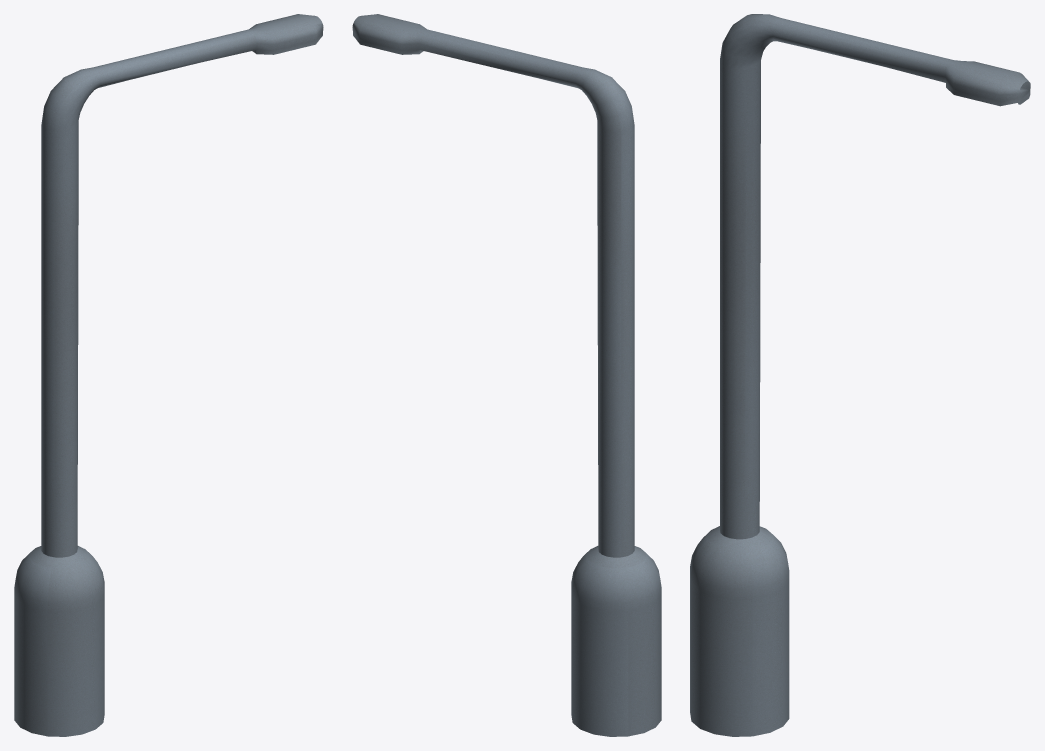
The model's file is TrafficLight.fbx.
The picture shows the model from 3 angles, left to right: view 1: azimuth 30°, elevation 25°; view 2: azimuth 150°, elevation 25°; view 3: azimuth 330°, elevation 25°; orthographic projection. The views are drawn at different scales.
Visible parts, largest first — view 1: Cylinder; view 2: Cylinder; view 3: Cylinder.
Part boxes in pixels (x1=…): Cylinder: x1=14, y1=14, x2=323, y2=736; Cylinder: x1=352, y1=14, x2=661, y2=736; Cylinder: x1=690, y1=14, x2=1030, y2=736.
Bounding box in the file's own units: 247 × 507 × 65.11.
Materials: 2 (1 with a texture image).
